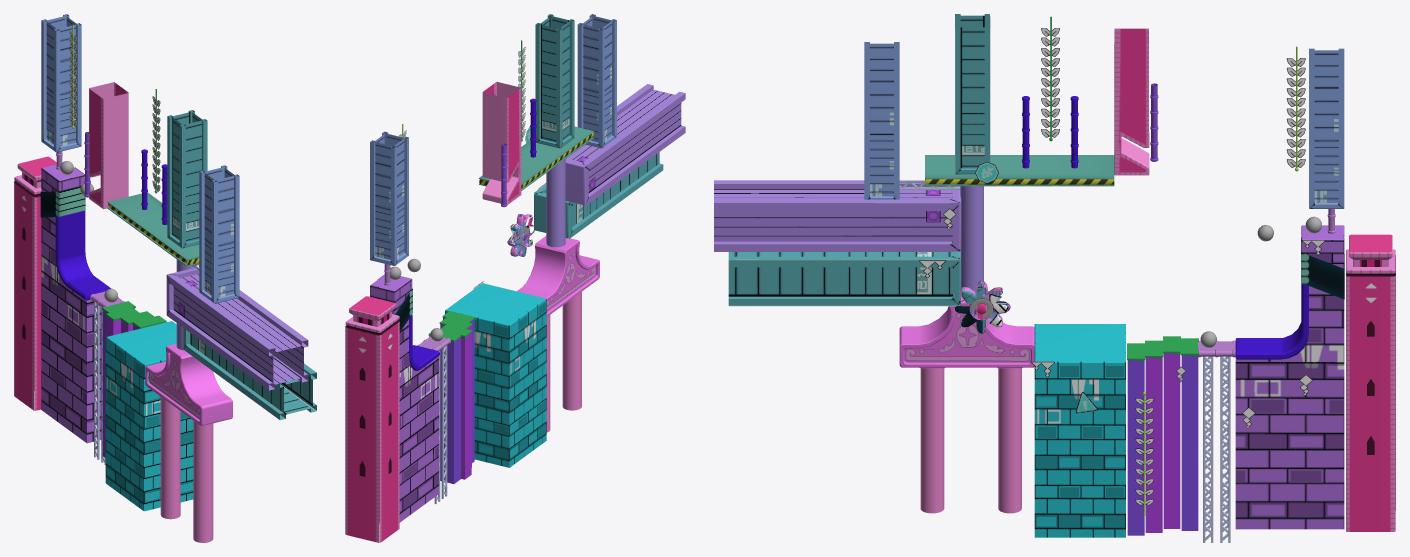
The model's file is FBX_MapObjects.fbx.
3 renders of one model, left to right at view 1: azimuth 30°, elevation 25°; view 2: azimuth 150°, elevation 25°; view 3: azimuth 270°, elevation 25°, orthographic. The views are drawn at different scales.
Parts seen in each view (by area): view 1: pCube2, pCube29, pCube35, pCube36, pCube41, pCube1, pCube25, pCube23, pCube30, pCube42, pCube3, pCylinder15 (+6 smaller); view 2: pCube36, pCube29, pCube2, pCube35, pCube25, pCube1, pCube41, pCube23, pCube30, pCube42, pCube22, pCylinder15 (+7 smaller); view 3: pCube2, pCube29, pCube35, pCube36, pCube42, pCube30, pCube1, pCube41, pCube25, pCube23, pCube24, pCylinder15 (+8 smaller).
Boxes of the visible parts, x1,y1,x2,y2 form: pCube2: (40,164,101,443); pCube29: (105,321,193,511); pCube35: (166,267,308,390); pCube36: (14,156,56,410); pCube41: (199,165,239,303); pCube1: (41,14,81,152); pCube25: (167,110,207,248); pCube23: (89,82,128,209); pCube30: (145,344,232,425); pCube42: (183,328,316,420); pCube3: (55,210,110,300); pCylinder15: (193,420,213,542); pCube36: (345,296,399,542); pCube29: (445,283,546,467); pCube2: (370,275,438,522); pCube35: (565,84,685,205); pCube25: (535,14,574,148); pCube1: (370,131,408,265); pCube41: (577,14,616,148); pCube23: (482,82,521,204); pCube30: (517,236,599,316); pCube42: (534,152,663,238); pCube22: (428,330,461,483); pCylinder15: (562,292,581,410); pCube2: (1235,225,1344,529); pCube29: (1034,324,1125,537); pCube35: (714,180,961,251); pCube36: (1346,234,1395,531); pCube42: (728,250,960,306); pCube30: (899,285,1034,367); pCube1: (1309,48,1344,208); pCube41: (864,42,899,199); pCube25: (955,14,990,174); pCube23: (1114,28,1149,175); pCube24: (925,155,1114,186); pCylinder15: (920,368,944,513).
Size of the model in its own units: 3.07 by 15.91 by 19.31.
2 materials, 1 textured.
